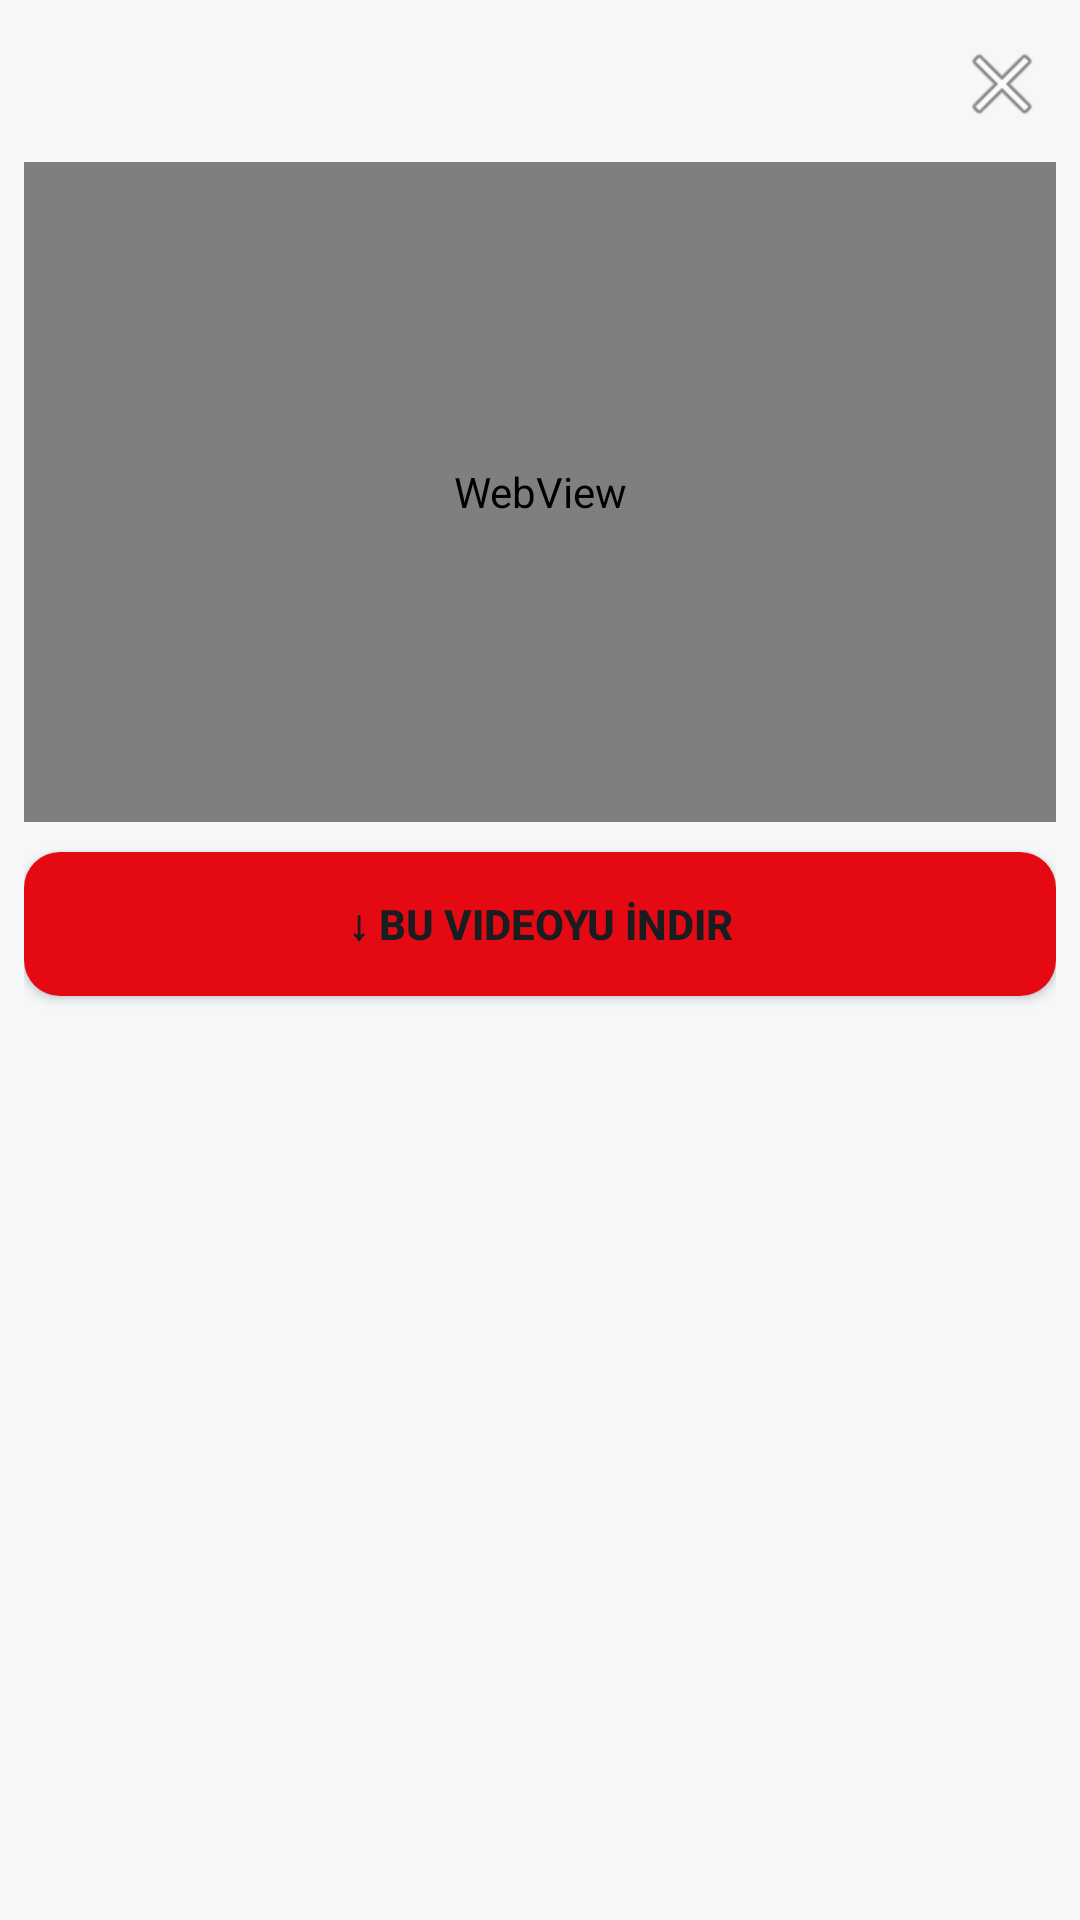

Screen size 1080 × 1920. Icon name, then its center in pixels as point (x, y):
close clear cancel: point (1002, 84)
